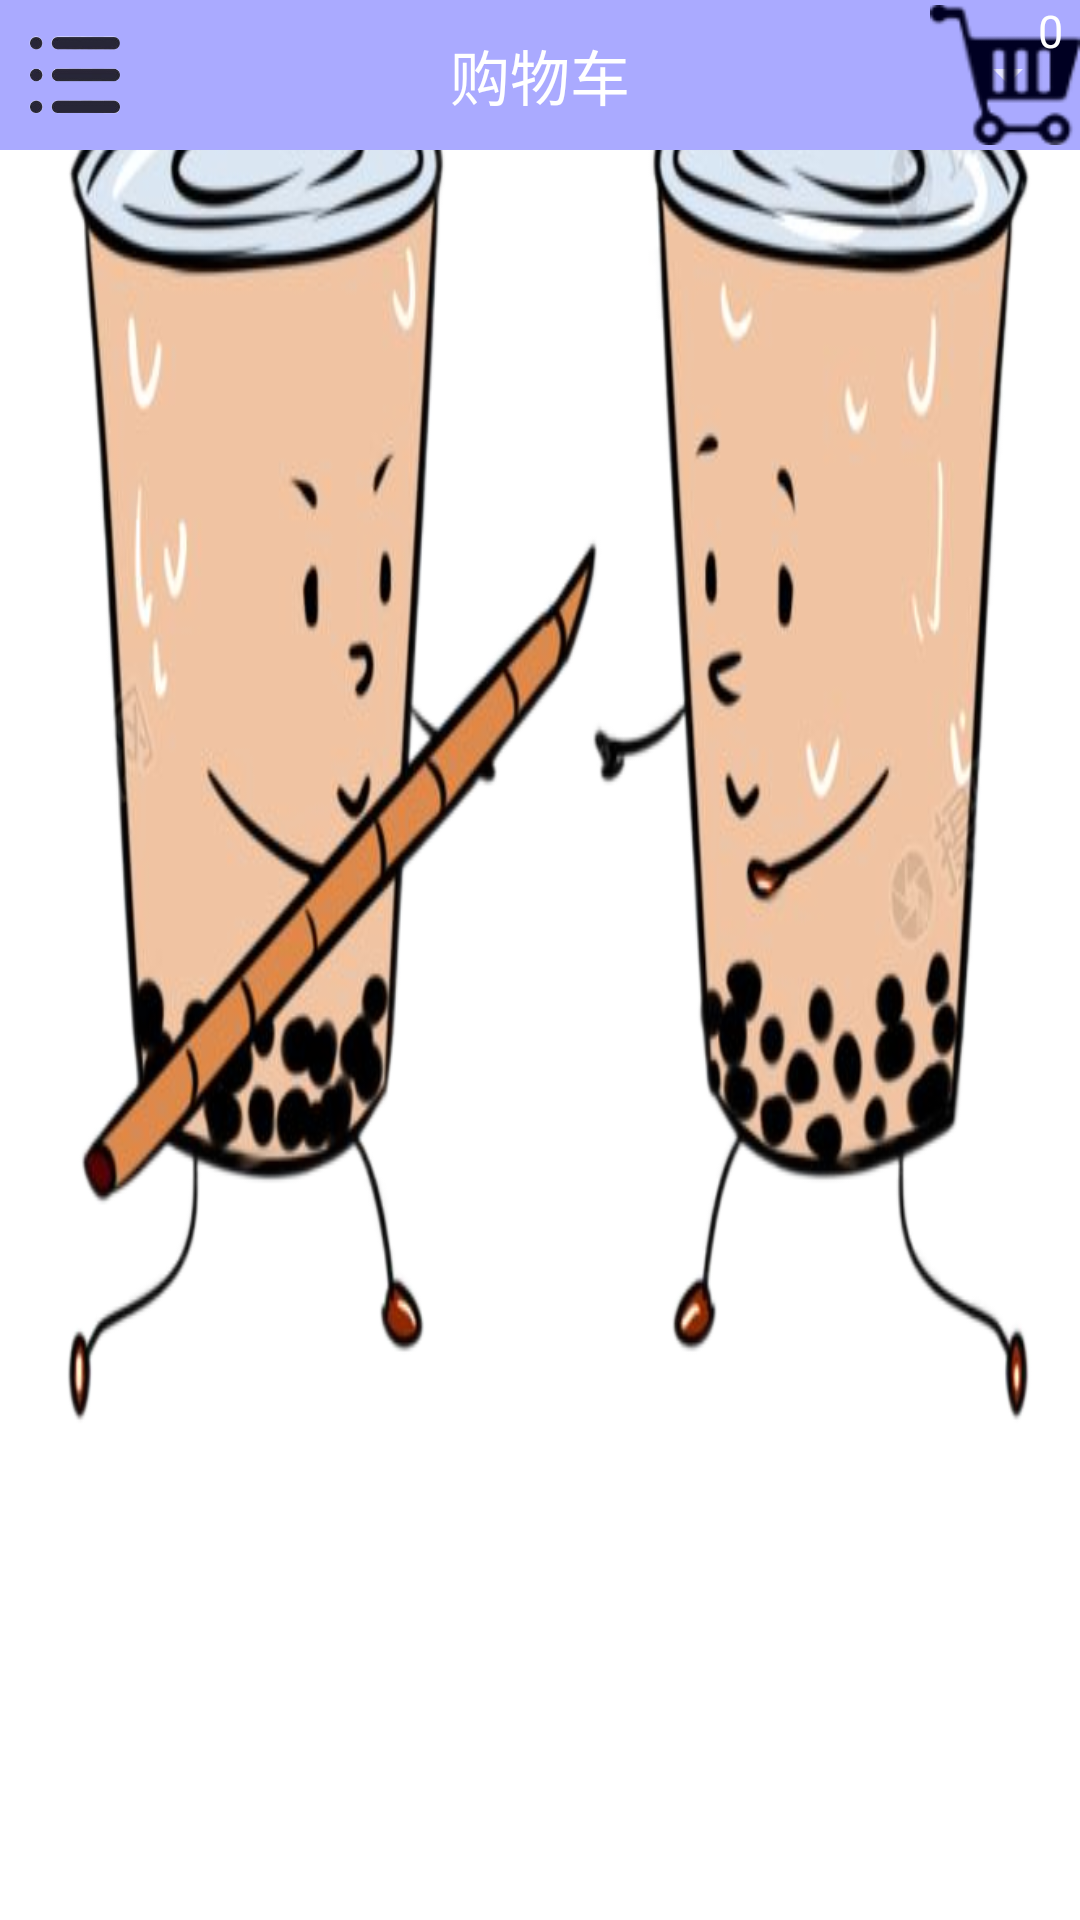

Locate icon controls on the screen. Image size 1080 × 1920, boxes as bbox=[x1, y1, x2, y2].
cart: bbox=[930, 5, 1080, 145]
menu: bbox=[30, 36, 120, 113]
